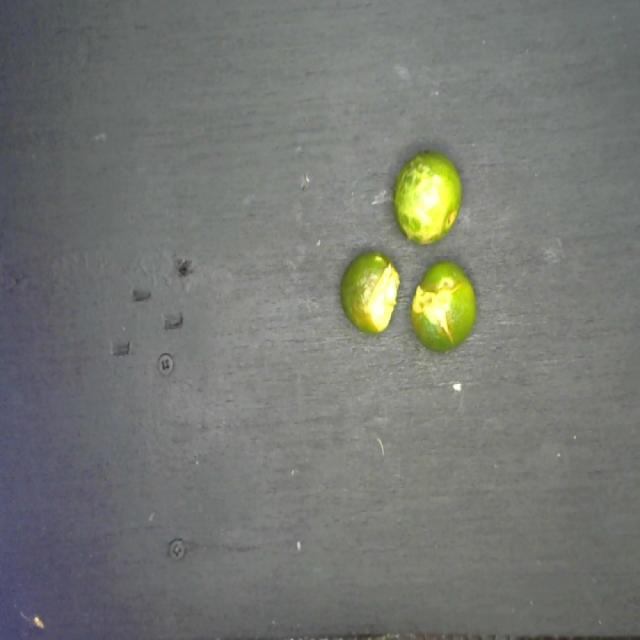biodegradable: (335, 143, 481, 354)
